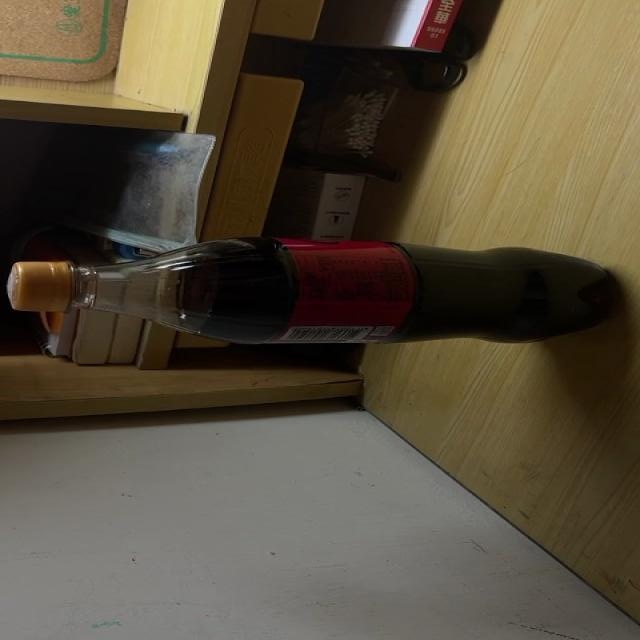Coca-Cola: (8, 238, 610, 347)
